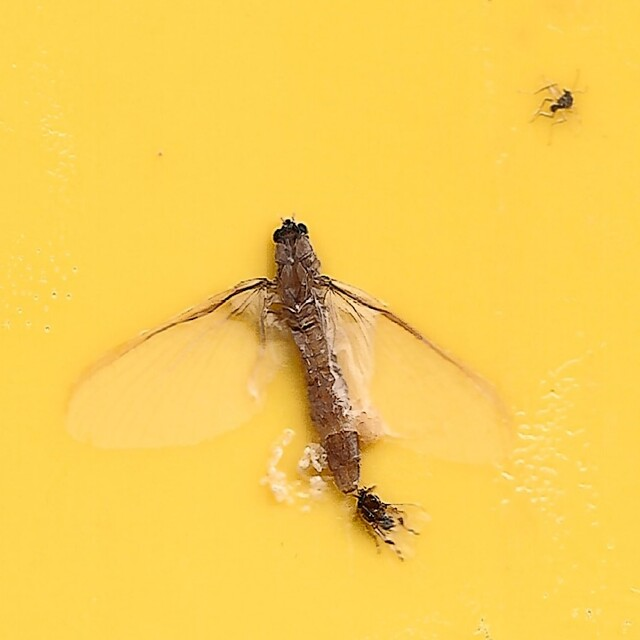Ephemeroptera: (65, 215, 535, 494)
Nematocera: (352, 482, 421, 560), (533, 80, 575, 122)
